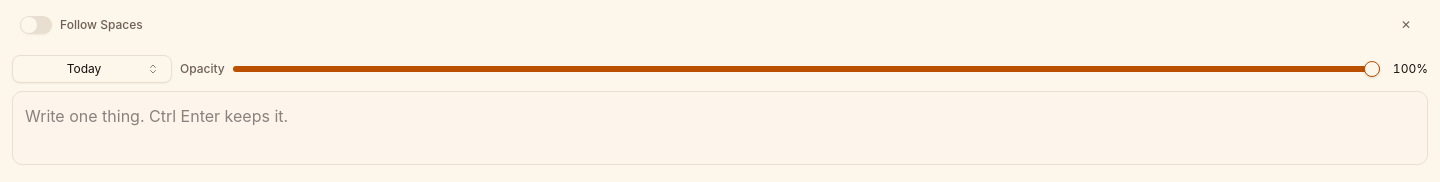
Test: LiveEditor complete command › still toggles an existing checkbox line into a Completed row on Cmd+Enter
The width and height of the screenshot is (1440, 182).
Type "- [ ] write tests" into the text box.
click(720, 128); type("- [ ] write tests")  # box x1=12 y1=91 x2=1428 y2=165
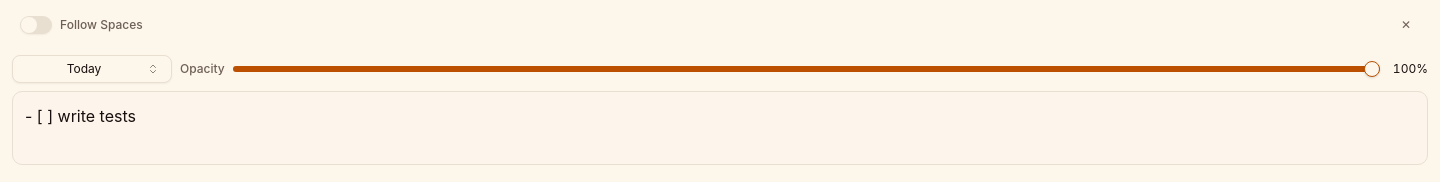
Press Enter in the text box, box x1=12 y1=91 x2=1428 y2=165
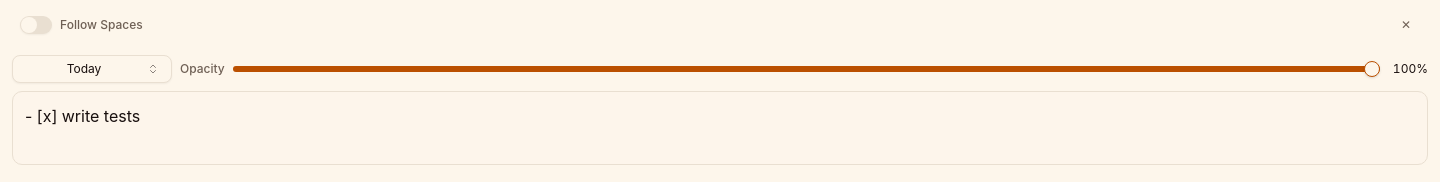
Now the text box holds "- [x] write tests", box x1=12 y1=91 x2=1428 y2=165
